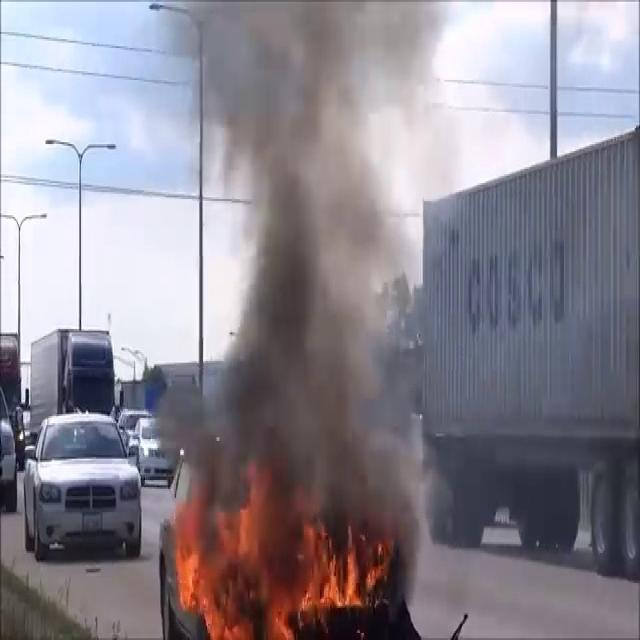Fire: (173, 488, 383, 638)
Smoke: (180, 1, 444, 563)
